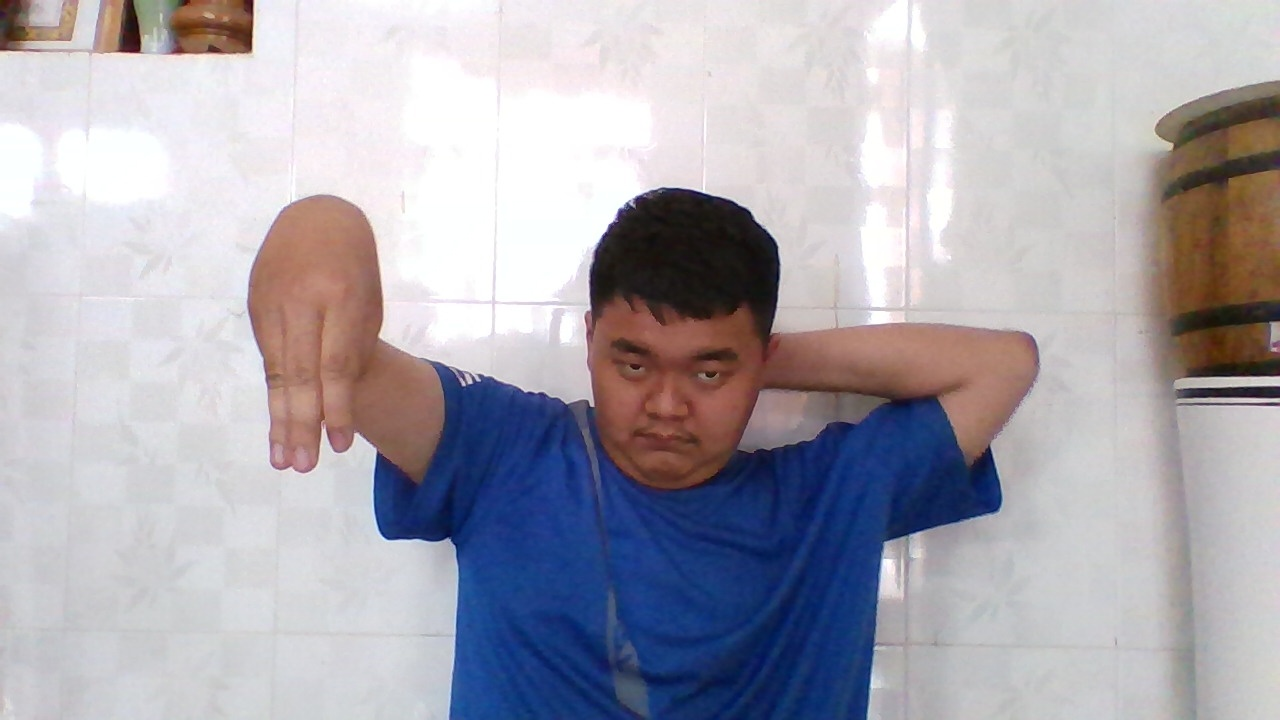M: (236, 188, 390, 483)
